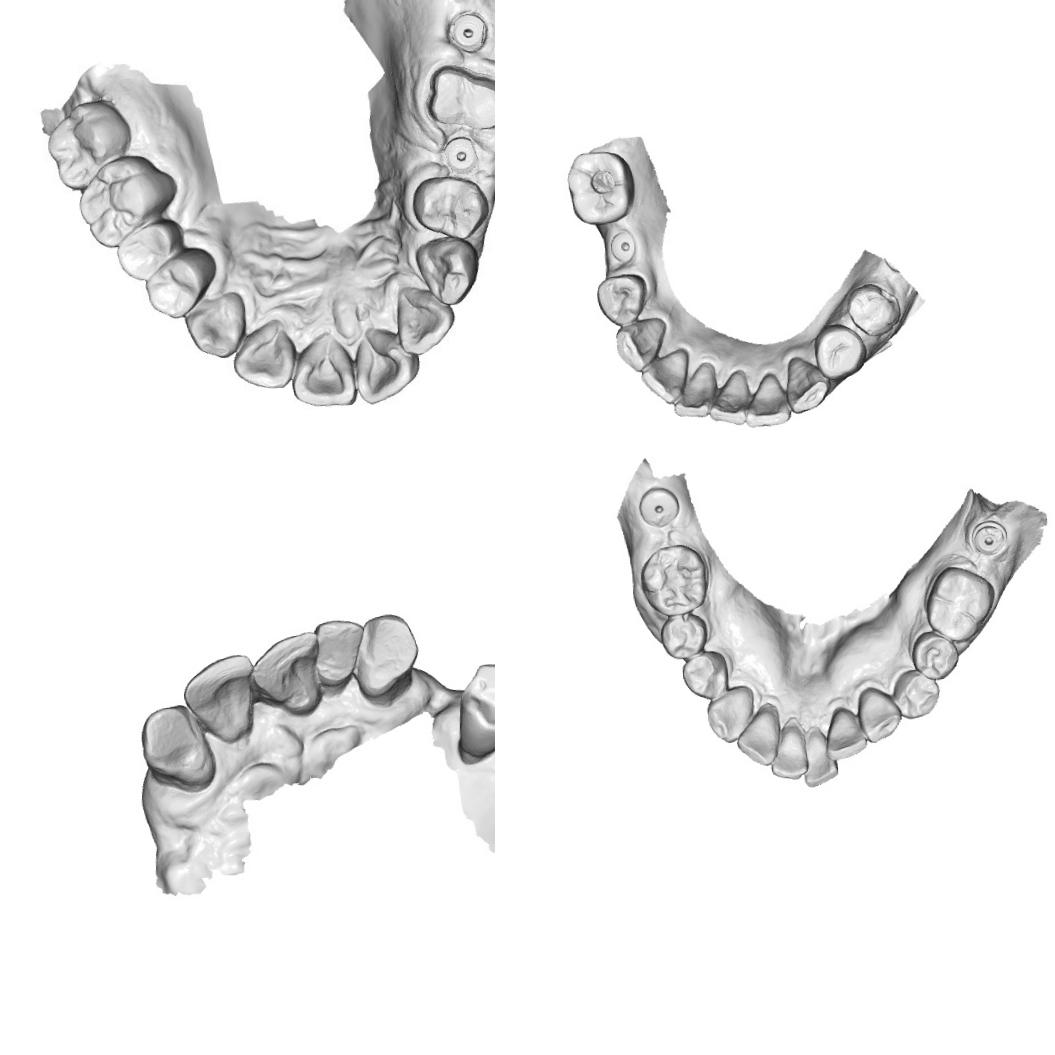canine: (136, 702, 219, 793), (348, 609, 420, 700), (410, 233, 476, 306), (181, 293, 246, 358), (609, 313, 672, 374), (702, 682, 758, 746), (780, 352, 832, 414), (854, 683, 905, 745)
crown: (418, 56, 495, 140)
implant: (595, 227, 646, 271), (635, 483, 681, 530), (439, 132, 478, 176), (448, 7, 486, 51), (968, 518, 1009, 558)
incisor: (178, 651, 256, 747), (246, 629, 327, 714), (346, 322, 420, 404), (288, 338, 361, 412), (229, 322, 297, 395), (311, 614, 368, 691), (394, 288, 454, 357), (636, 346, 698, 407), (740, 367, 794, 430), (668, 357, 720, 422), (731, 706, 785, 768), (704, 366, 752, 429), (821, 704, 868, 762), (766, 722, 810, 782), (800, 727, 839, 789)
molar: (74, 148, 182, 248), (44, 96, 132, 193), (920, 560, 998, 644), (562, 146, 637, 229), (636, 541, 711, 619), (410, 174, 490, 240)
premolar: (450, 659, 495, 746), (144, 255, 205, 316), (810, 320, 870, 382), (841, 280, 904, 339), (592, 269, 649, 327), (117, 221, 176, 276), (906, 628, 960, 683), (888, 666, 941, 720), (678, 647, 730, 702), (656, 611, 711, 661)
